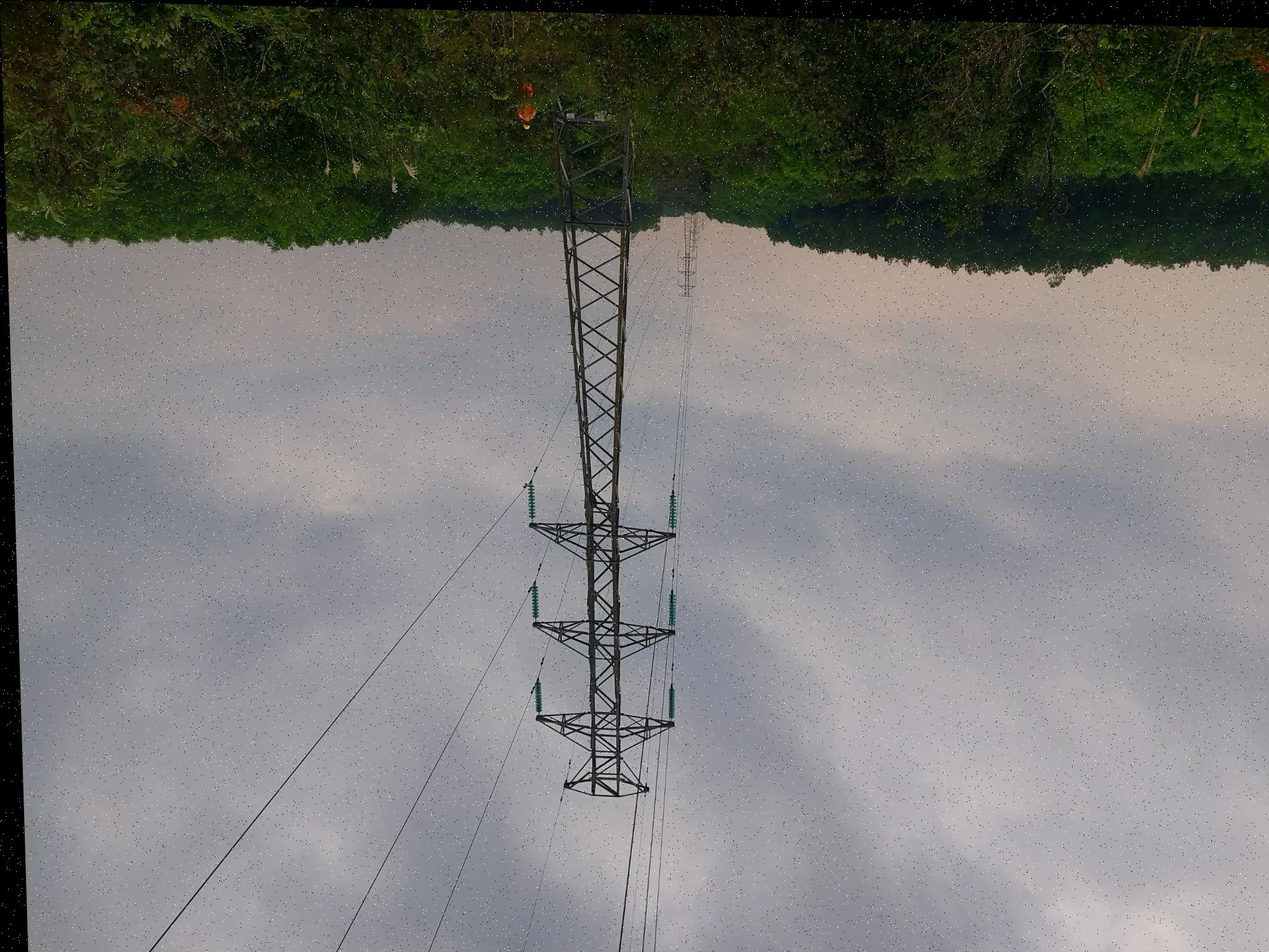tower: (506, 90, 695, 816)
